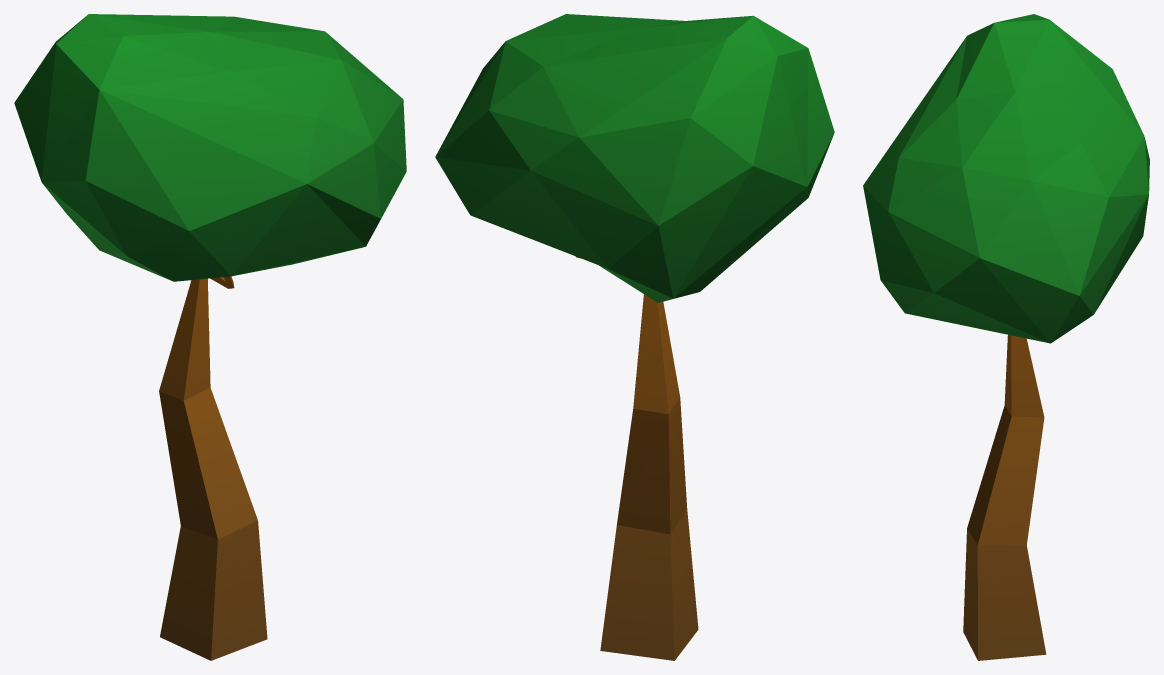
Rendered from Tree_8.fbx.
3 views of the same model, side by side, from view 1: azimuth 30°, elevation 25°; view 2: azimuth 150°, elevation 25°; view 3: azimuth 270°, elevation 25° (orthographic). The views are drawn at different scales.
Parts seen in each view (by area): view 1: Tree_8; view 2: Tree_8; view 3: Tree_8.
Part boxes in pixels (x1,y1,x2,y2): Tree_8: [14, 14, 406, 660]; Tree_8: [435, 14, 834, 660]; Tree_8: [863, 14, 1149, 660].
Bounding box in the file's own units: 519 × 922 × 414.
